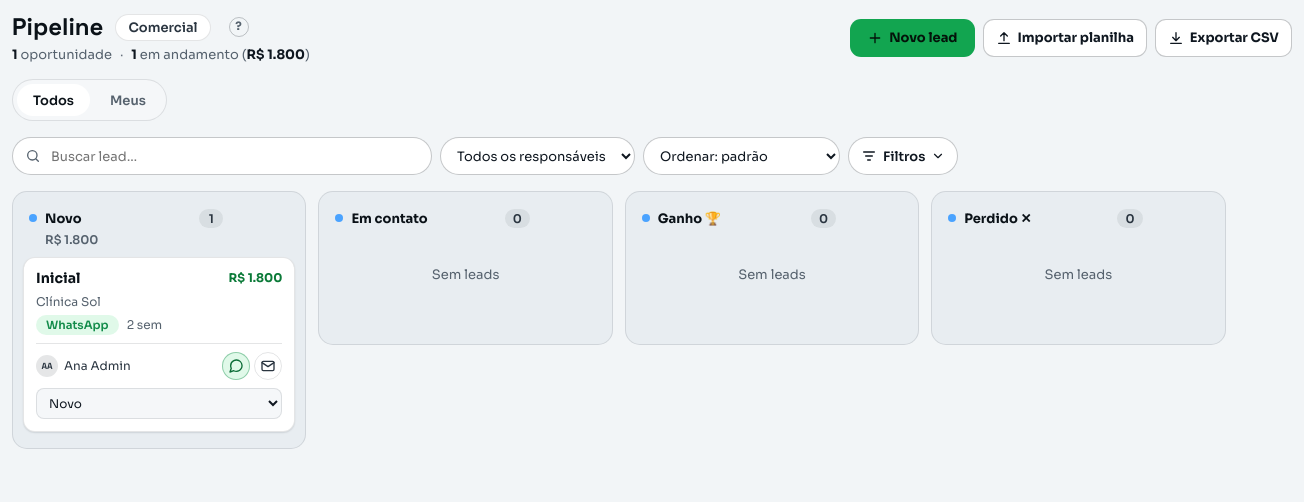
Test: F-01 carregamento do quadro › resposta antiga (filtro anterior) que chega depois NÃO sobrescreve a nova
expect the text "Inicial" is shown: met, box [36,270,80,288]
In the field labelled "Buscar lead": (234, 156) [49,146,419,166], type "ana"
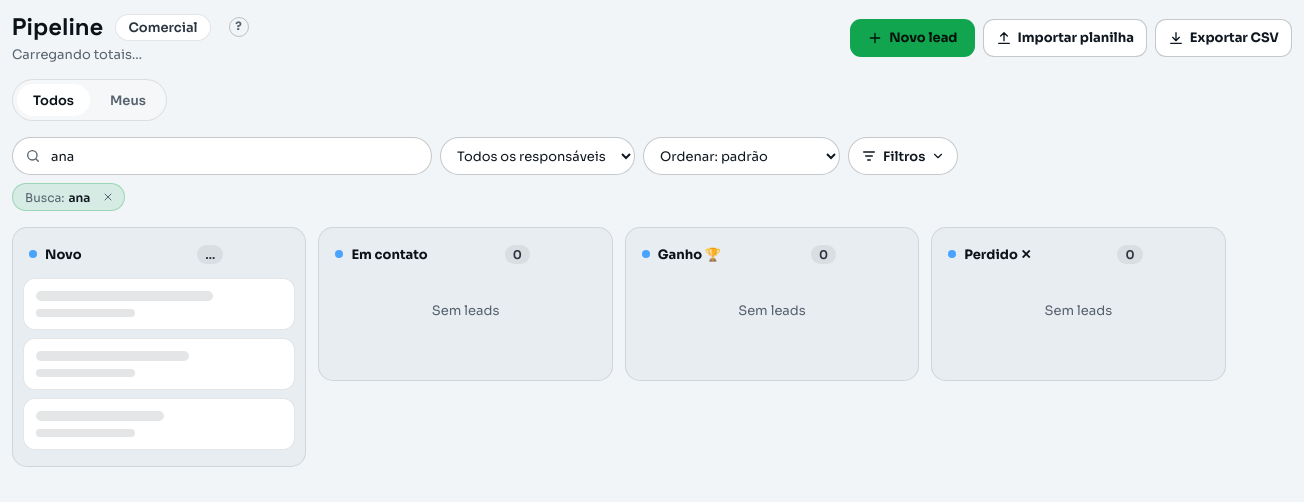
Replace the text in the field named "Buscar lead" with "bruno": (234, 156) [49,146,419,166]
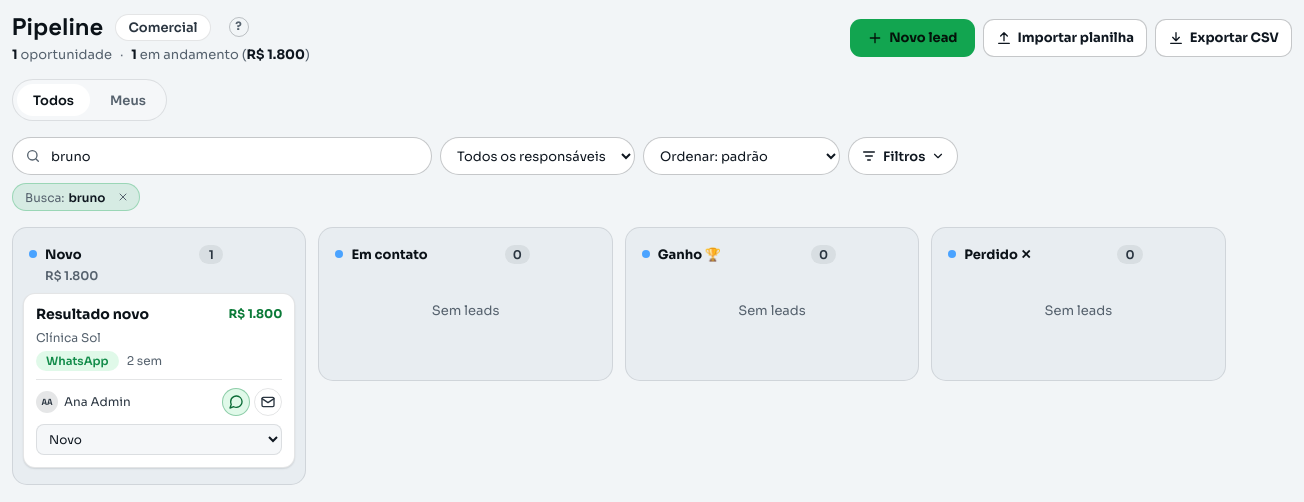
expect the text "Resultado novo" is shown: met, box [36,306,149,324]
